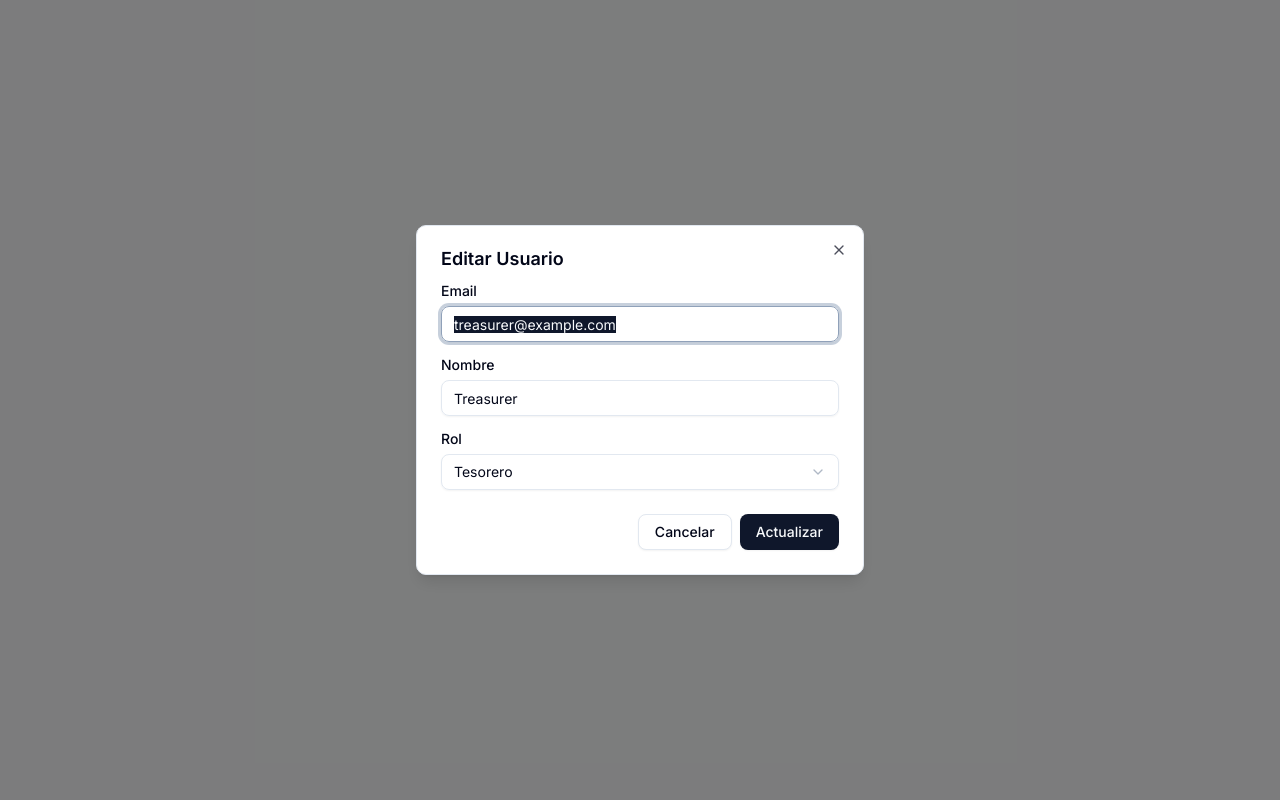
UserModal › shows the processing state while the submission is in flight
Click the button "Actualizar" at [789, 532], box [740,514,839,550]
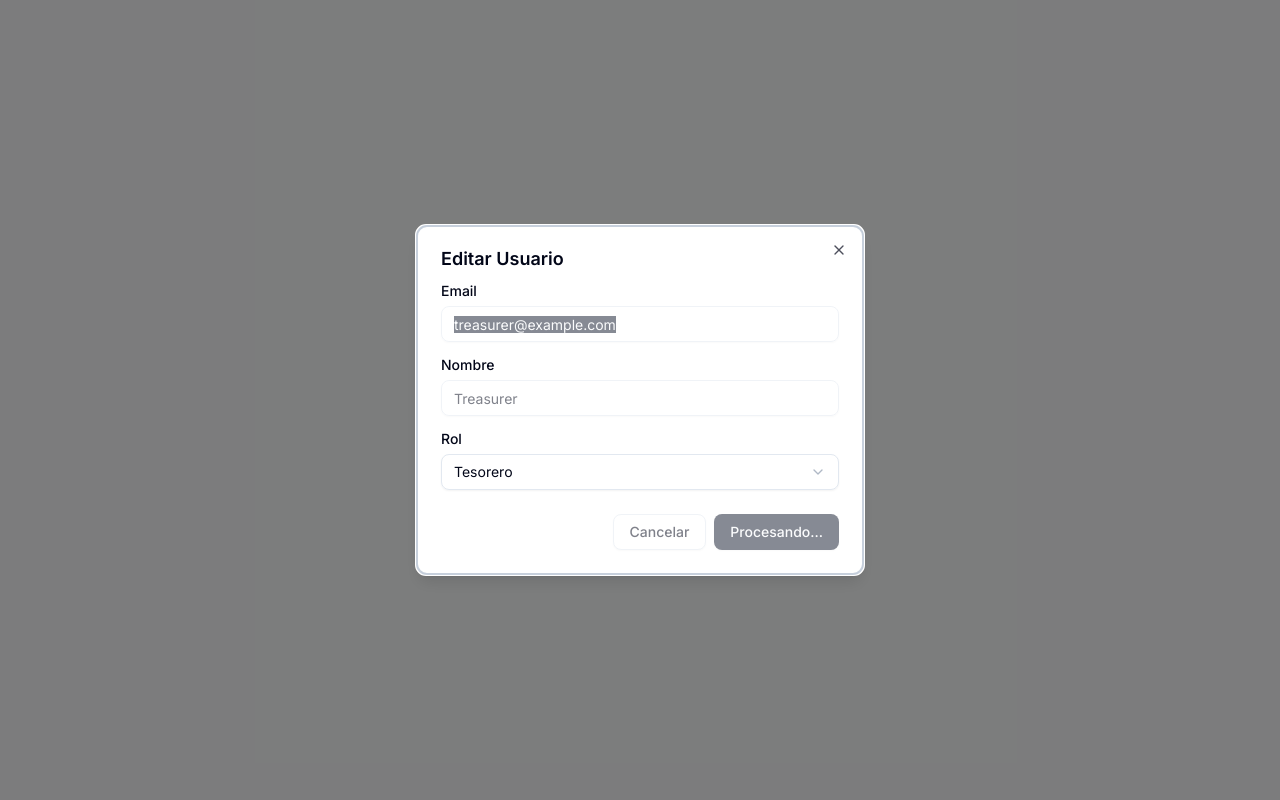
Check: the button "Procesando..." is disabled, box [714,514,839,550]
